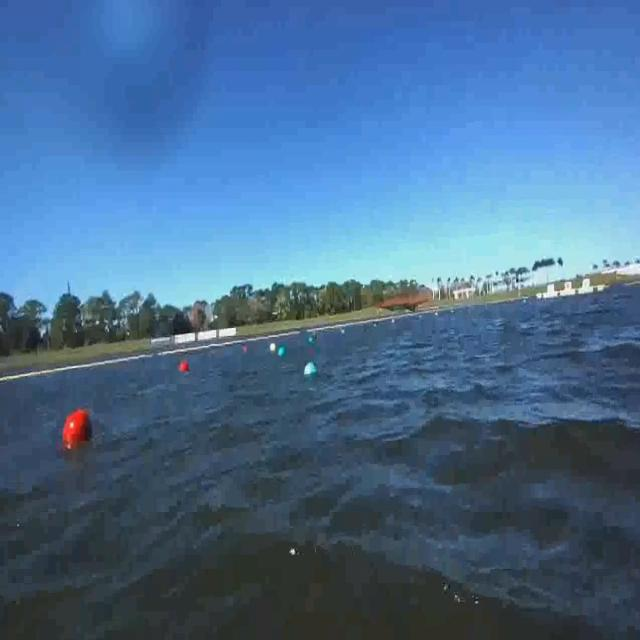green-buoy: (306, 359, 318, 378), (278, 346, 286, 358)
red-buoy: (62, 405, 99, 451), (180, 360, 190, 372)
yellow-buoy: (271, 343, 278, 354)
